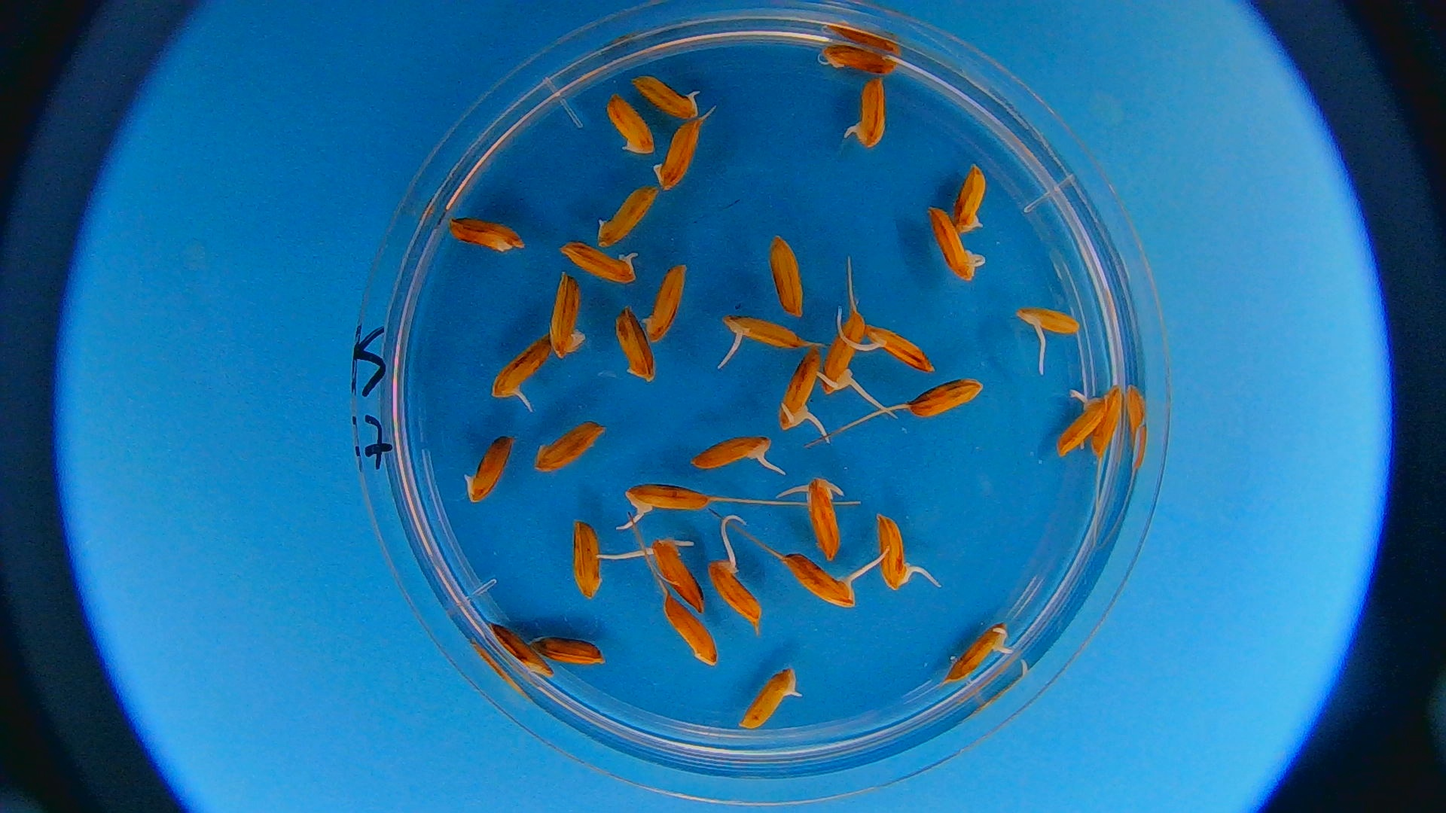no: (661, 593, 719, 665), (597, 184, 658, 249), (652, 122, 703, 195), (536, 422, 606, 473), (636, 265, 683, 340), (487, 619, 550, 674), (548, 274, 587, 360), (767, 233, 805, 316), (633, 72, 702, 117), (464, 437, 511, 502), (614, 309, 657, 380), (908, 379, 984, 419), (605, 94, 654, 154), (568, 519, 602, 601), (813, 40, 895, 74), (450, 215, 526, 251), (529, 634, 606, 668), (1091, 384, 1124, 457), (951, 165, 986, 230)
yes: (942, 622, 1013, 684), (738, 665, 803, 730), (654, 537, 708, 611), (1054, 388, 1107, 463), (783, 553, 856, 607), (776, 344, 822, 429), (490, 336, 550, 399), (563, 240, 641, 287), (822, 309, 865, 394), (926, 205, 975, 279), (856, 324, 933, 370), (710, 560, 759, 628), (719, 313, 802, 351), (693, 434, 773, 473), (845, 74, 886, 147), (619, 483, 709, 515), (803, 480, 837, 560), (875, 515, 910, 588), (1017, 304, 1081, 336)
